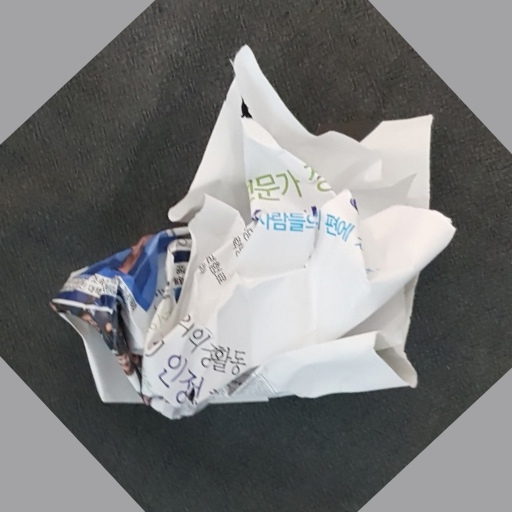Paper_3: (47, 36, 462, 425)
